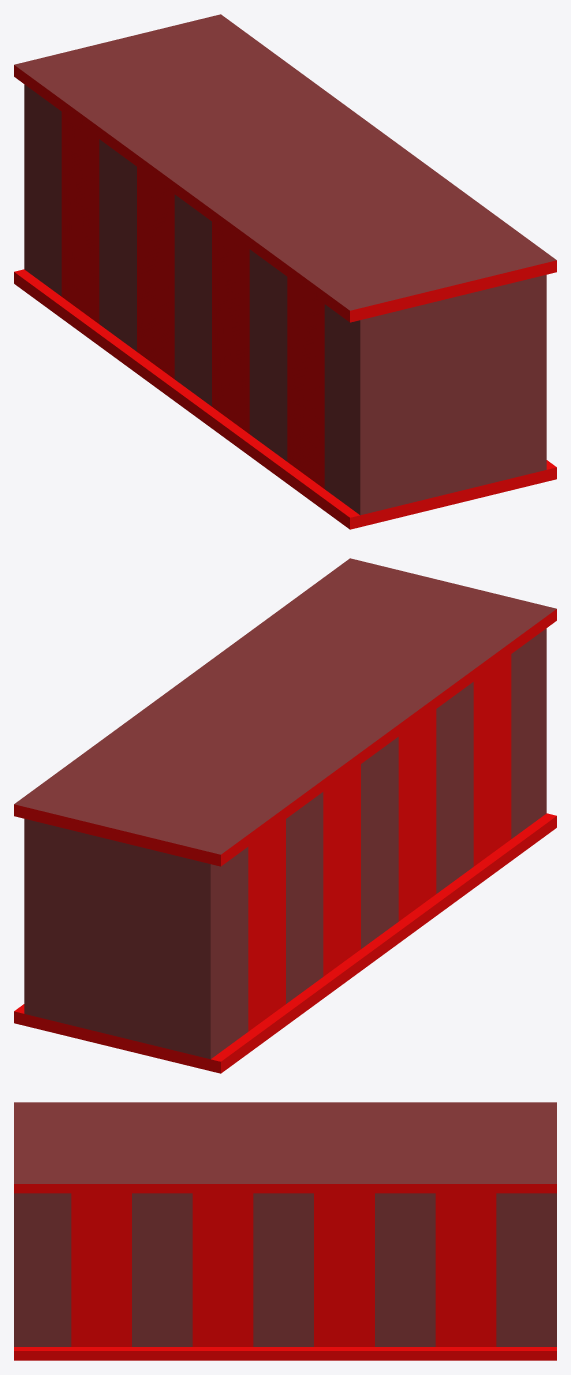
The model's file is ShippingContainerA.fbx.
3 views of the same model, one above another, from view 1: azimuth 30°, elevation 25°; view 2: azimuth 150°, elevation 25°; view 3: azimuth 270°, elevation 25° (orthographic). The views are drawn at different scales.
Parts seen in each view (by area): view 1: ShippingContainerA; view 2: ShippingContainerA; view 3: ShippingContainerA.
Part boxes in pixels (x1,y1,x2,y2): ShippingContainerA: (14,14,556,529); ShippingContainerA: (14,558,556,1073); ShippingContainerA: (14,1102,556,1360).
Size of the model in its own units: 170 by 172 by 479.
Materials: 1 (1 with a texture image).
